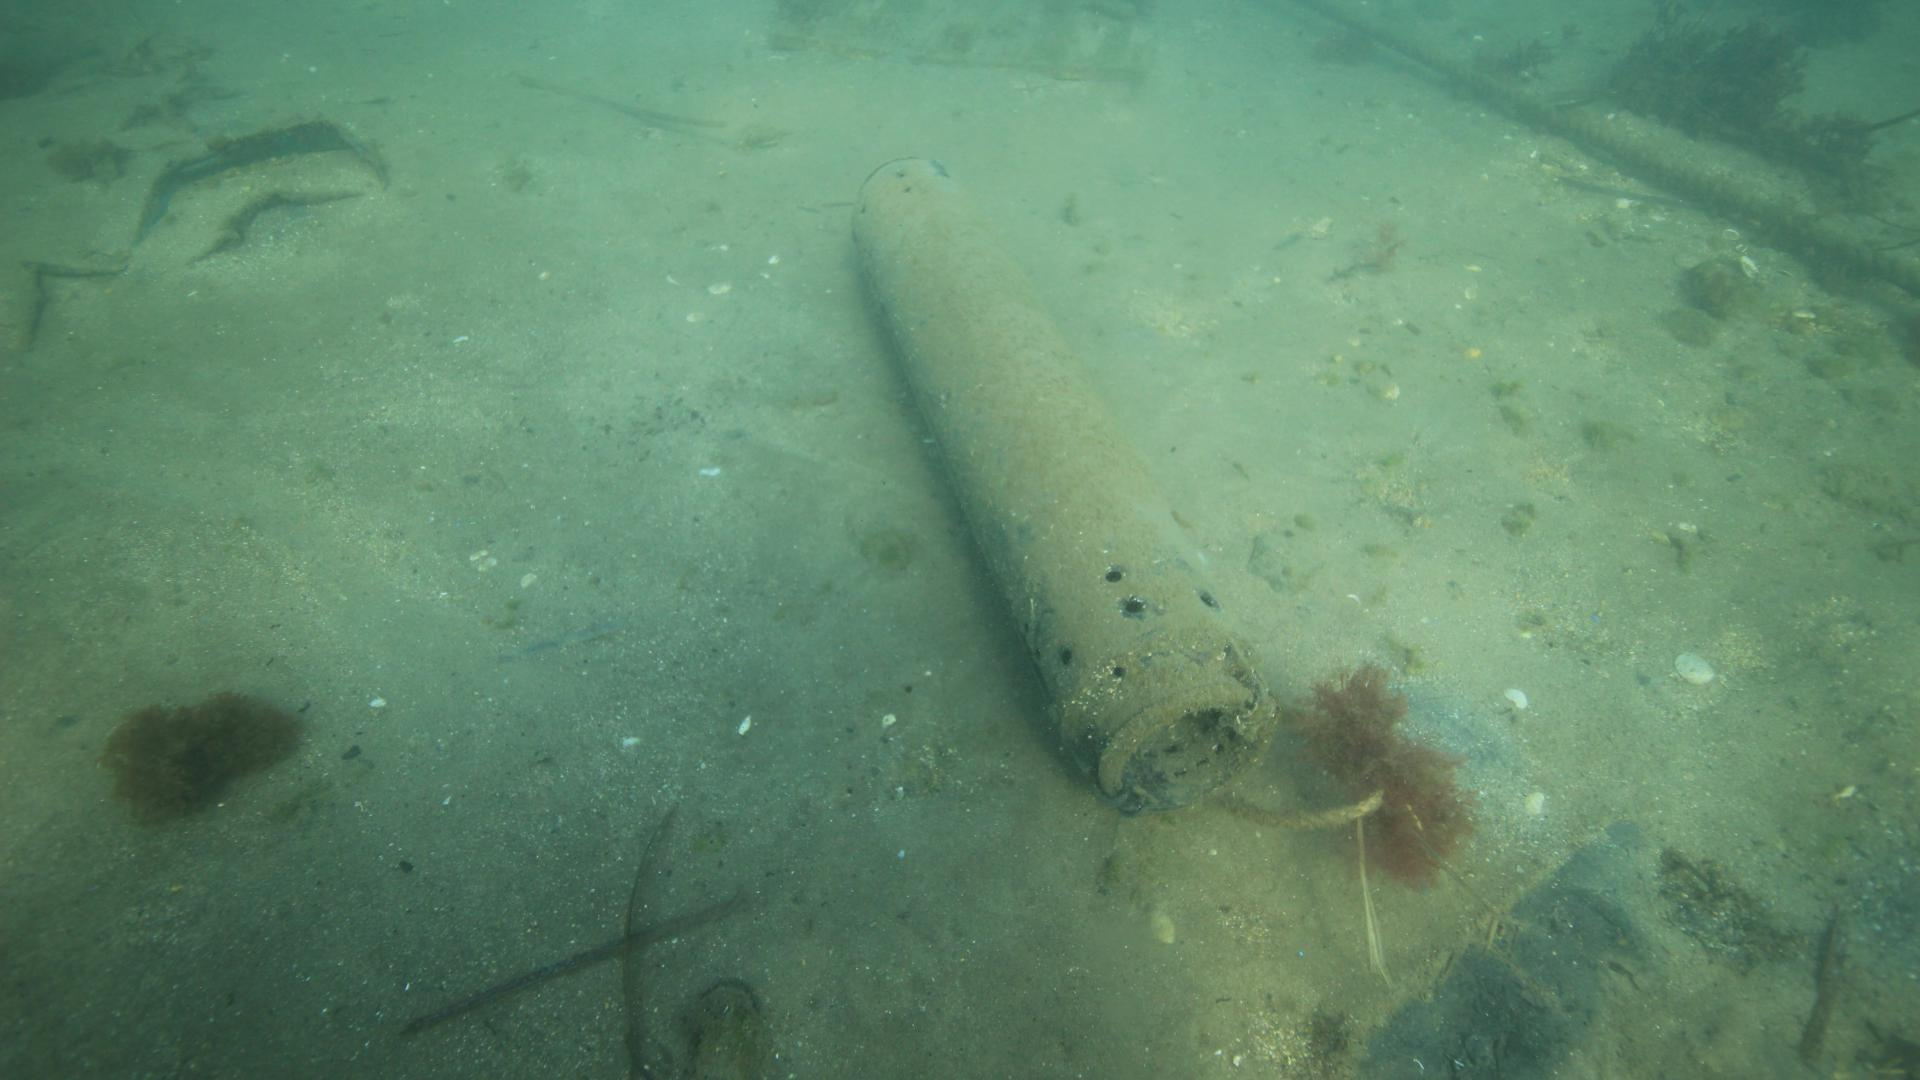eel fish trap: (848, 153, 1287, 815)
rope: (1222, 785, 1385, 829)
